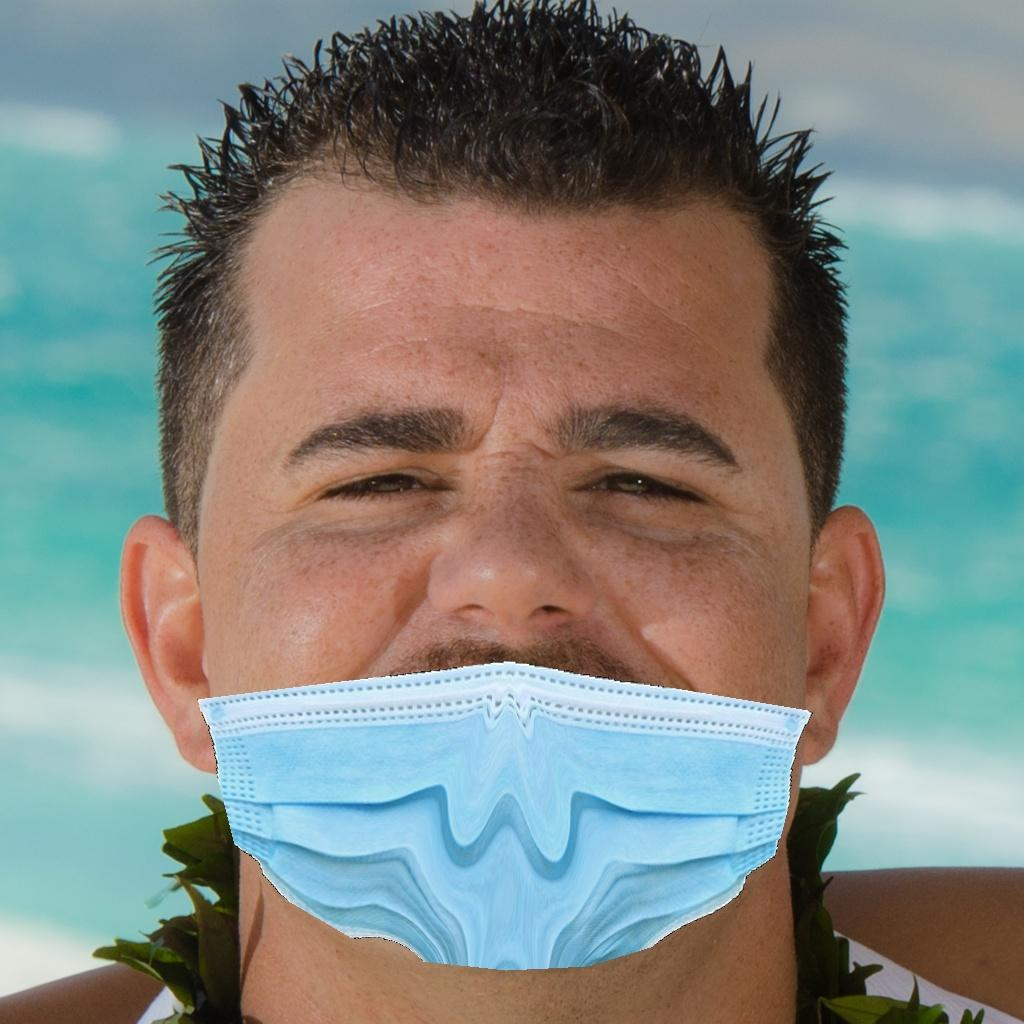Máscara Incorreta: (206, 270, 800, 937)
